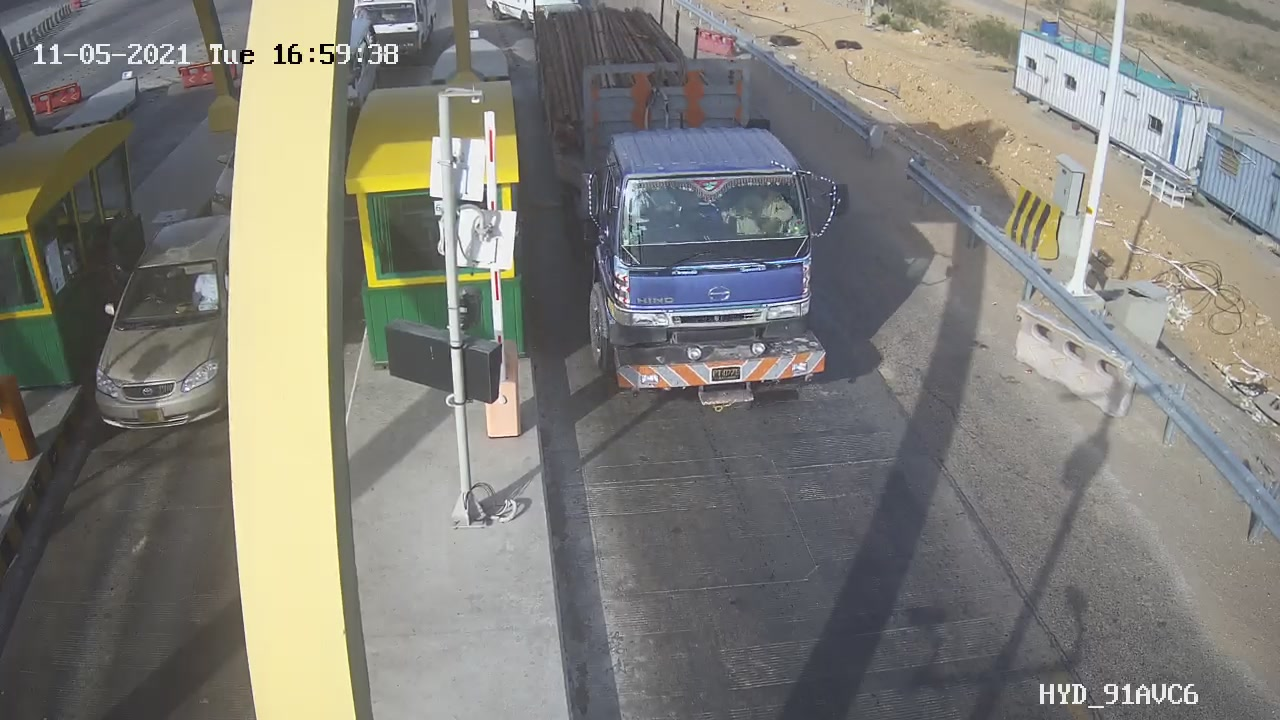F6: (525, 3, 868, 431)
